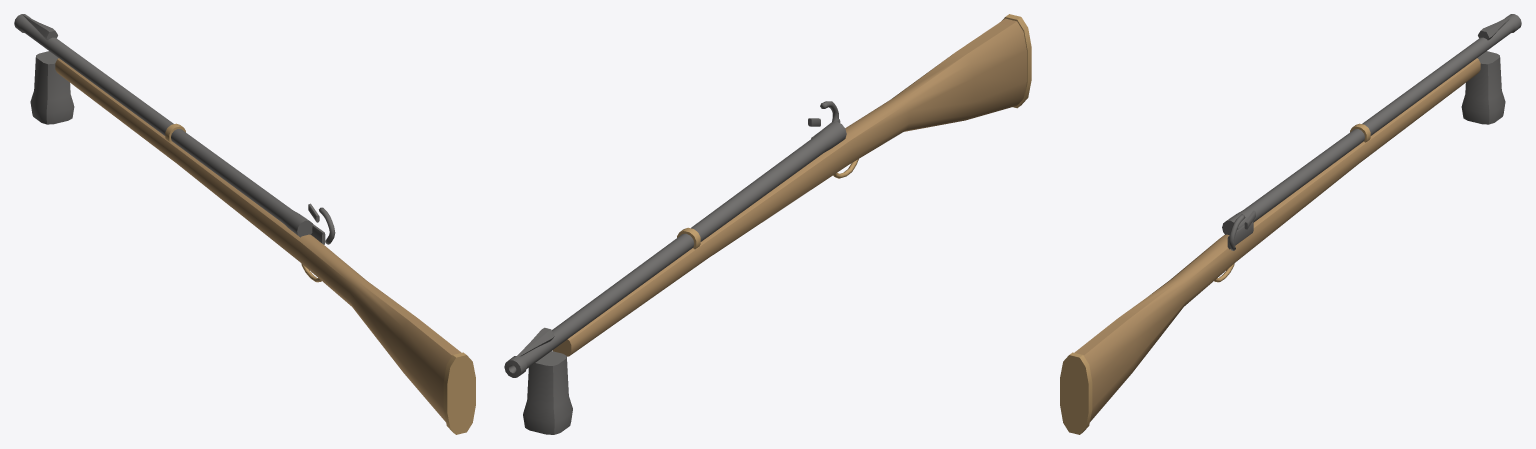
File: warhammer-musket.glb
3 views of the same model, side by side, from view 1: azimuth 30°, elevation 25°; view 2: azimuth 150°, elevation 25°; view 3: azimuth 330°, elevation 25° (orthographic). The views are drawn at different scales.
Visible parts, largest first — view 1: warhammer-musket; view 2: warhammer-musket; view 3: warhammer-musket.
Part boxes in pixels (x1,y1,x2,y2): warhammer-musket: [14, 14, 475, 434]; warhammer-musket: [504, 14, 1031, 434]; warhammer-musket: [1060, 14, 1521, 434].
Bounding box in the file's own units: 0.118 × 0.3741 × 2.71.
